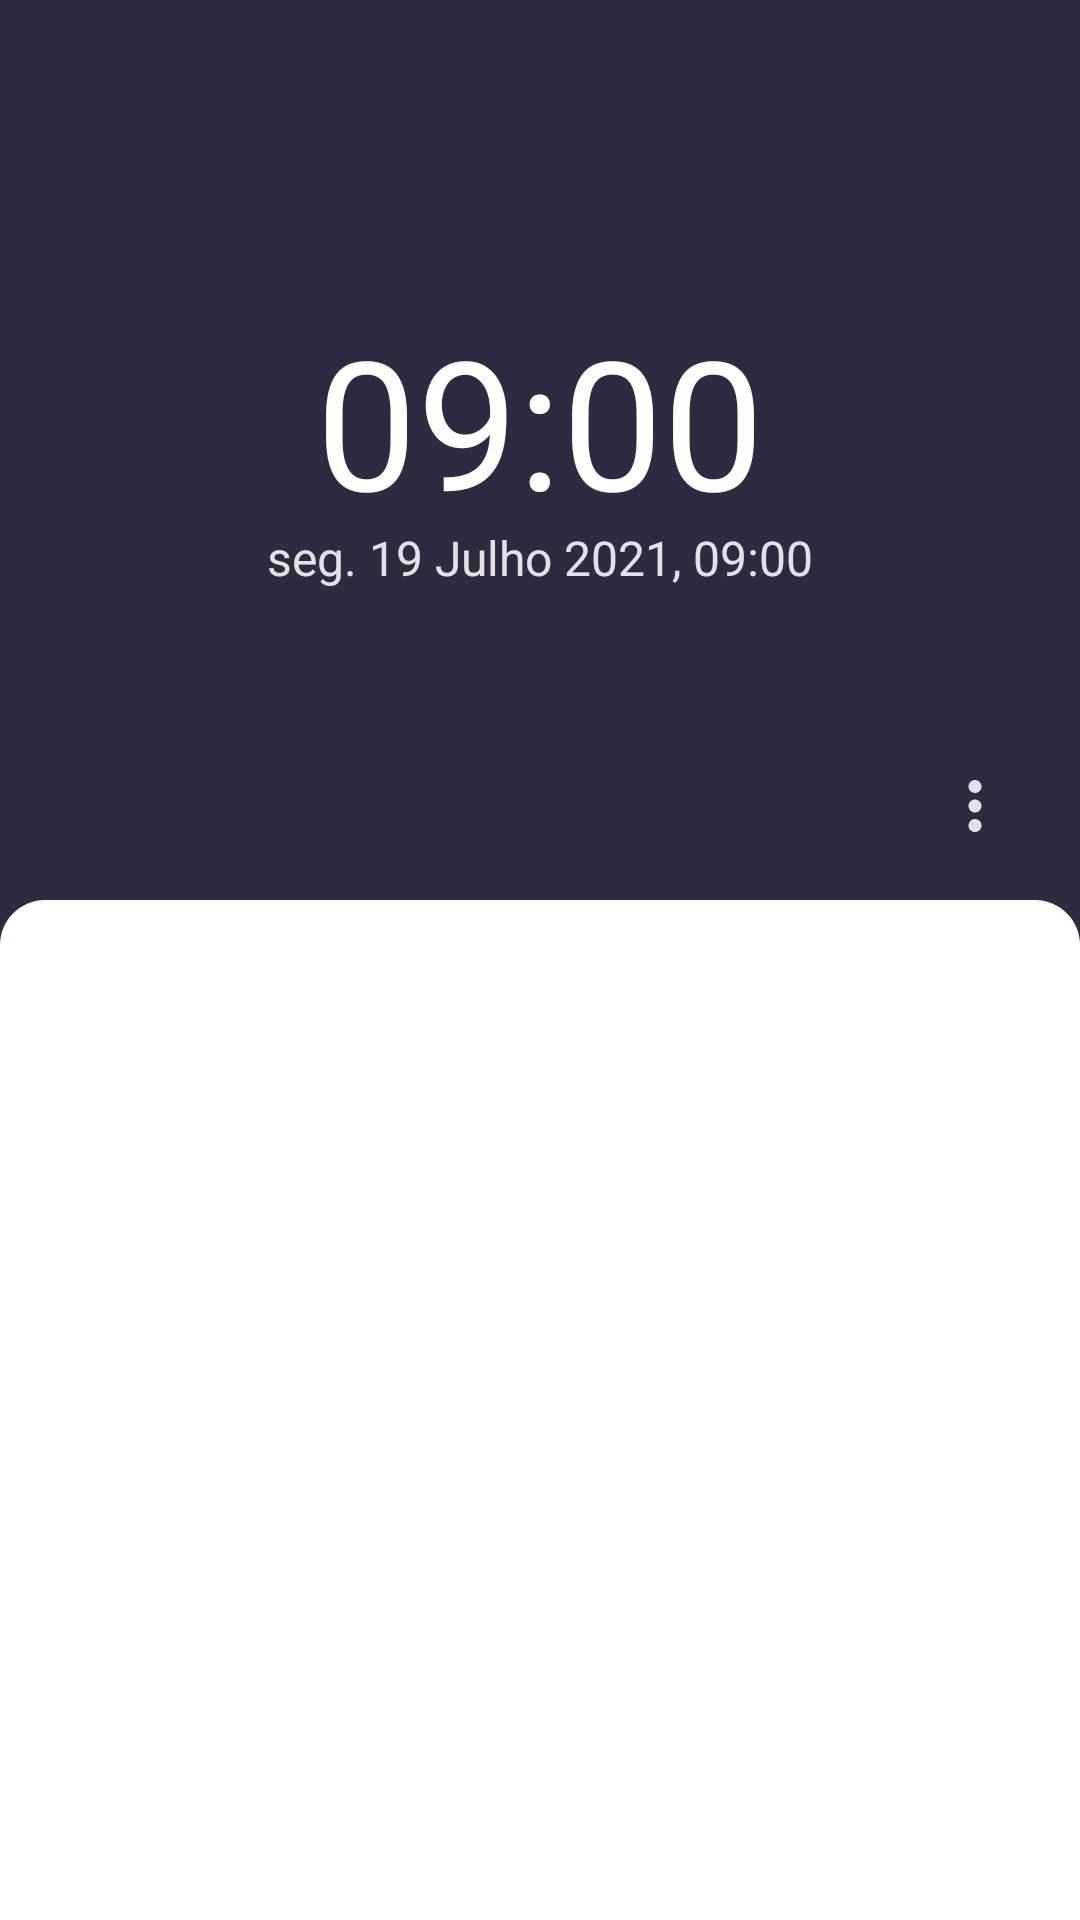

Named icons in this screenshot (1080x1920) and their bounding boxes, (x1, y1, x2, y2):
option: (968, 780, 982, 832)
